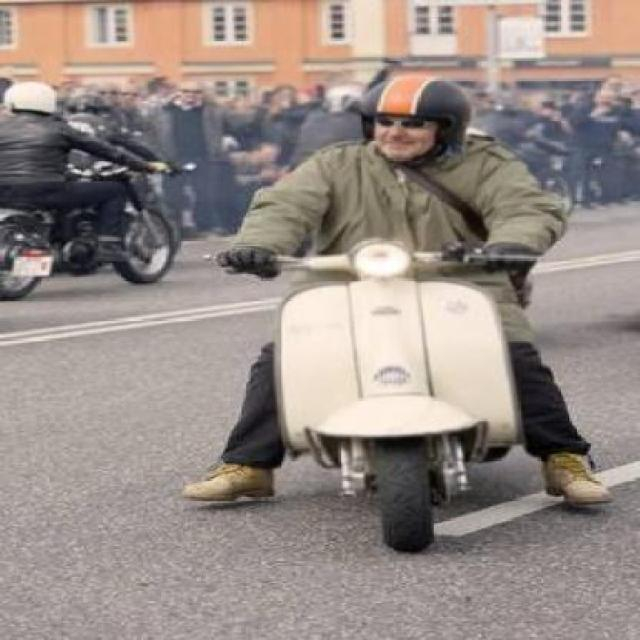helmet: (347, 69, 477, 169)
motorcycle: (183, 69, 628, 564)
